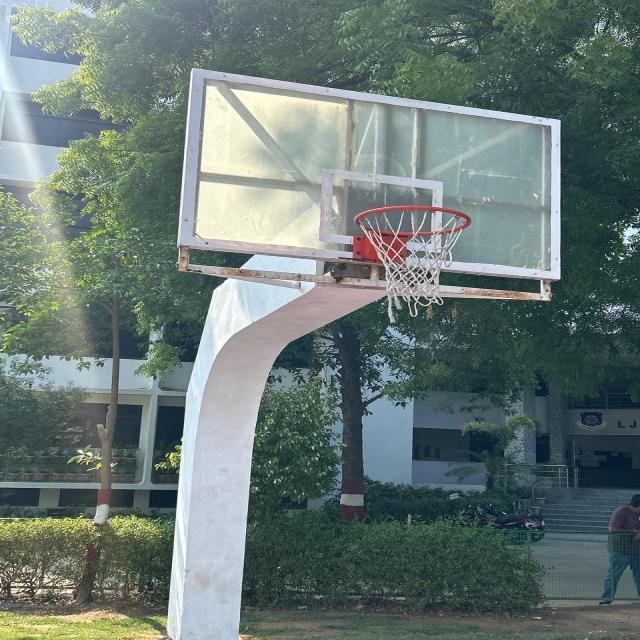hoop: (333, 188, 515, 352)
